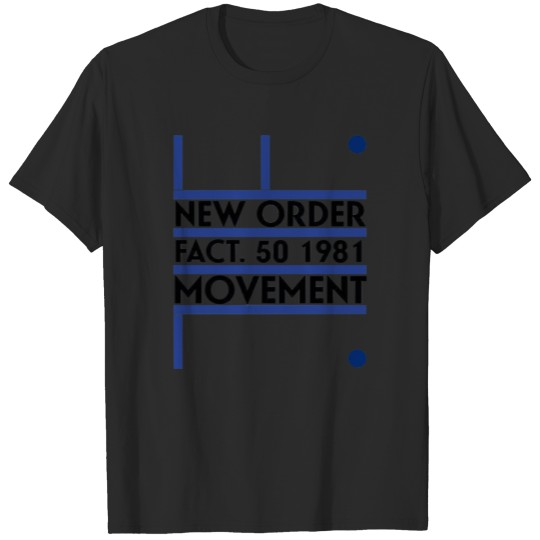design: (168, 130, 370, 370)
